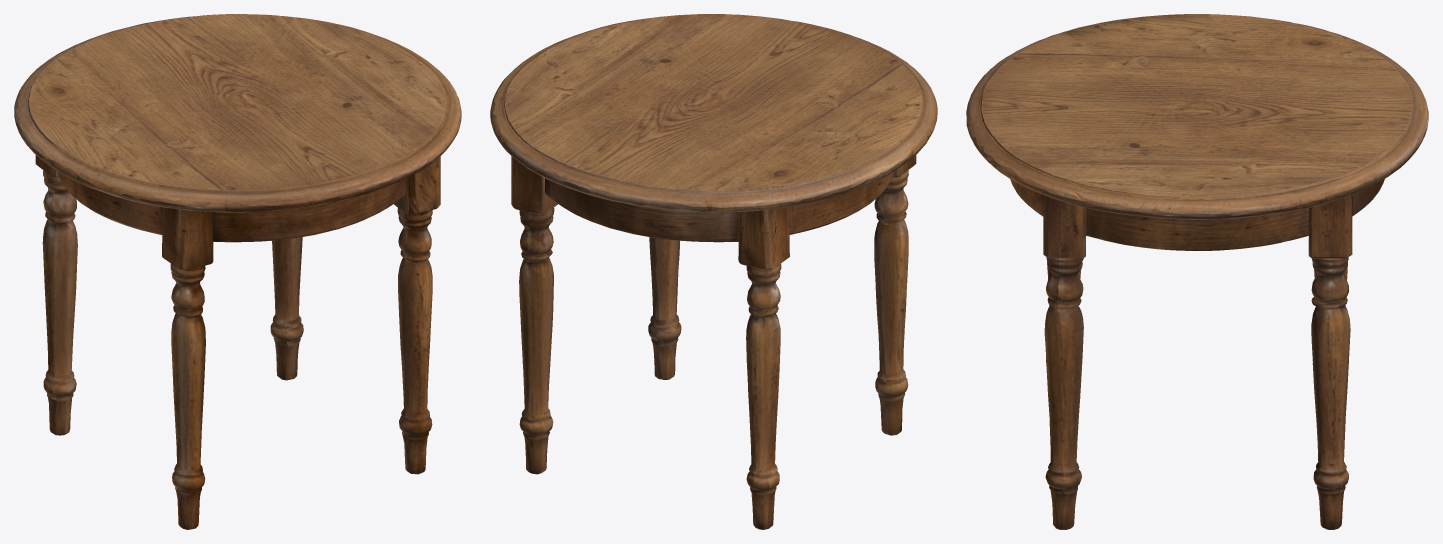
Rendered from model_glb.glb.
3 views of the same model, side by side, from view 1: azimuth 30°, elevation 25°; view 2: azimuth 150°, elevation 25°; view 3: azimuth 270°, elevation 25° (orthographic). The views are drawn at different scales.
Parts seen in each view (by area): view 1: geometry_0; view 2: geometry_0; view 3: geometry_0.
Boxes of the visible parts, left/top/right/bottom form: geometry_0: left=14, top=14, right=461, bottom=529; geometry_0: left=490, top=14, right=937, bottom=529; geometry_0: left=966, top=14, right=1428, bottom=529.
Size of the model in its own units: 0.9 by 0.7813 by 0.8999.
1 material, 1 textured.
